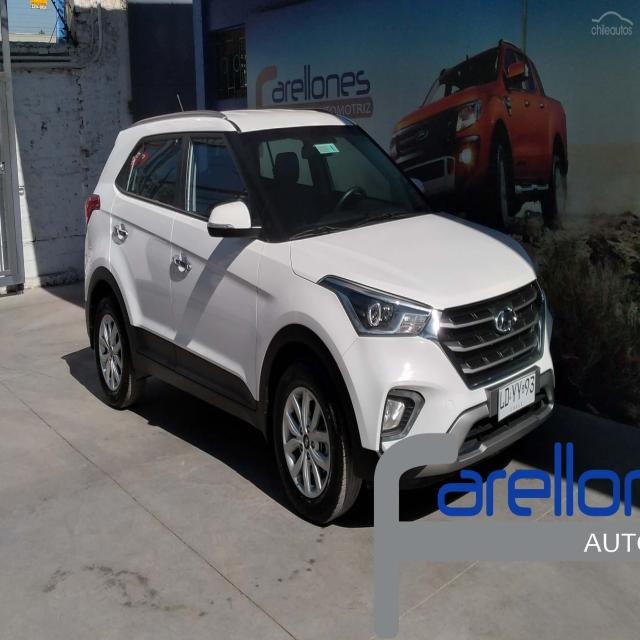patente: (497, 369, 537, 422)
